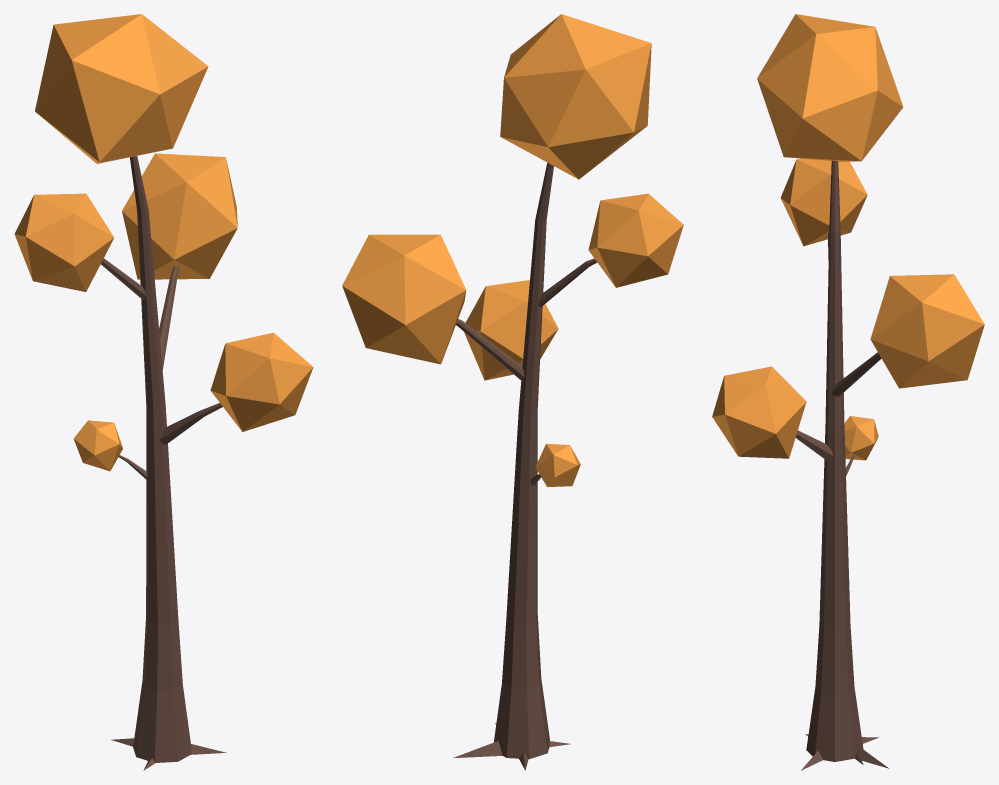
File: AutumnTree_05.fbx
The picture shows the model from 3 angles, left to right: view 1: azimuth 30°, elevation 25°; view 2: azimuth 150°, elevation 25°; view 3: azimuth 270°, elevation 25°; orthographic projection. The views are drawn at different scales.
Parts seen in each view (by area): view 1: AutumnTree_05; view 2: AutumnTree_05; view 3: AutumnTree_05.
Part boxes in pixels (x1,y1,x2,y2): AutumnTree_05: [14, 14, 313, 770]; AutumnTree_05: [342, 14, 683, 770]; AutumnTree_05: [712, 14, 984, 770].
Size of the model in its own units: 426 by 1108 by 390.
